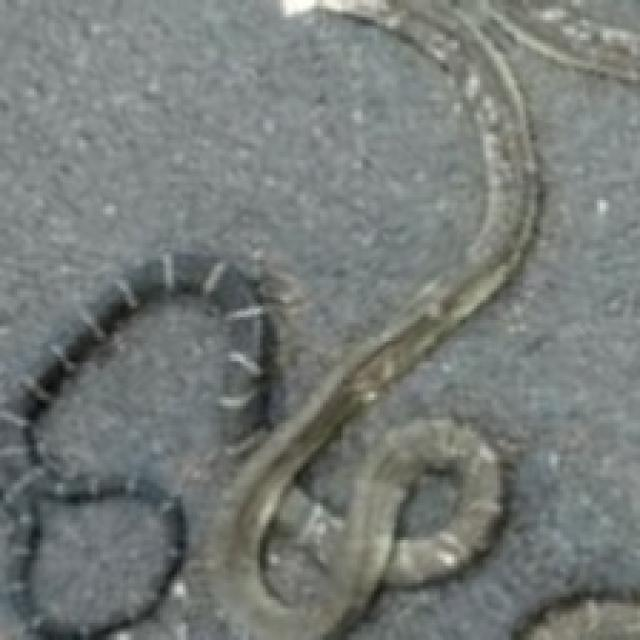king cobra: (303, 29, 637, 637), (0, 0, 451, 414), (0, 489, 40, 637), (0, 420, 37, 497)
